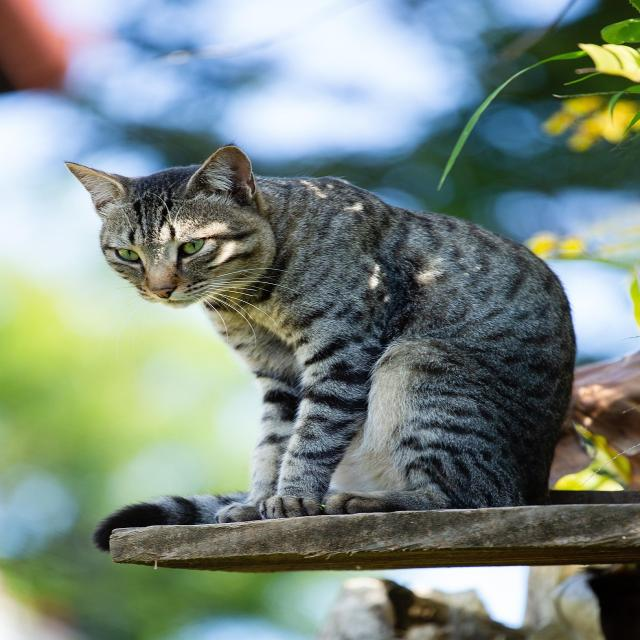cat: (66, 146, 582, 518)
